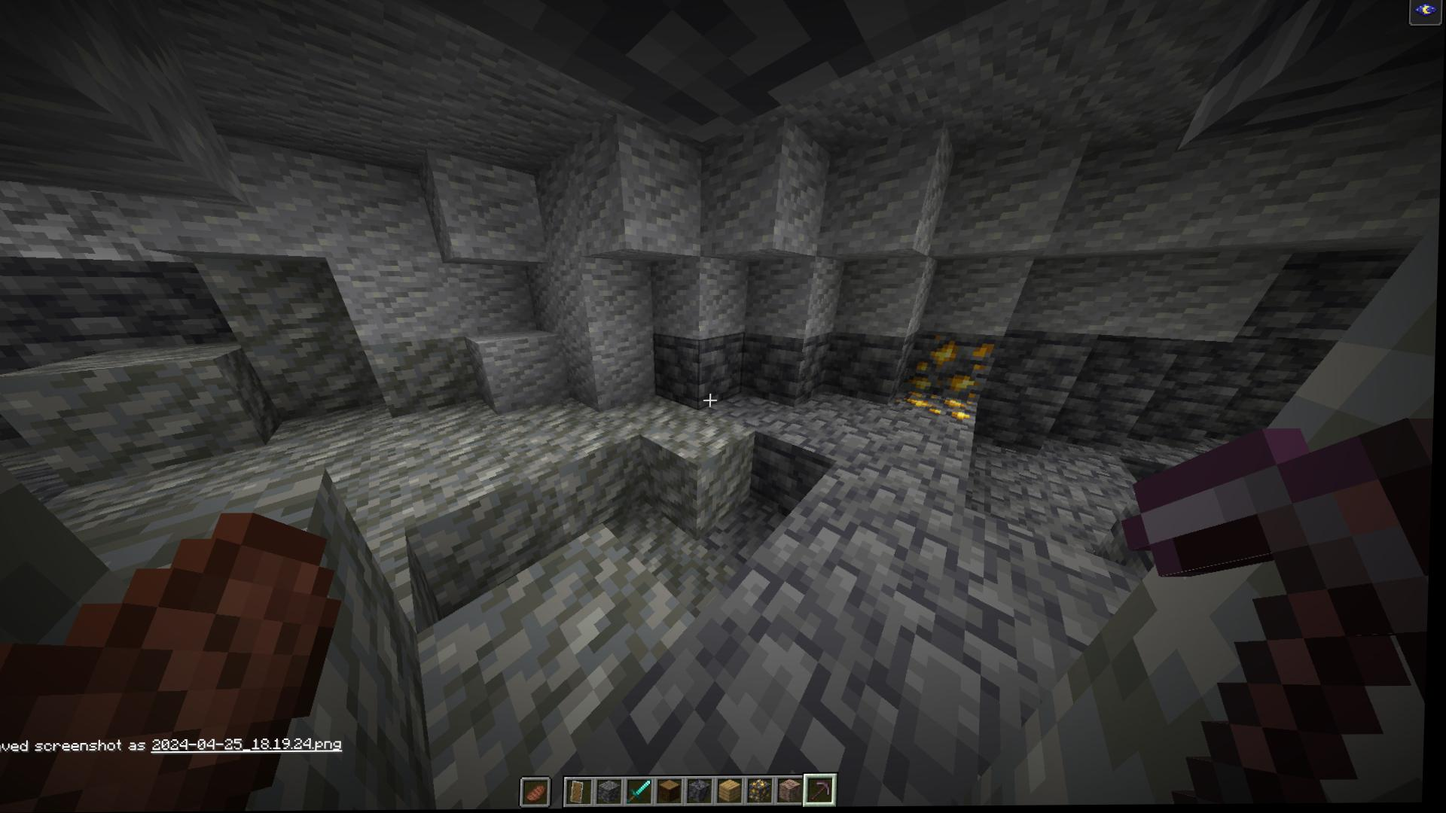gold ore: (908, 334, 998, 397), (900, 386, 983, 426)
